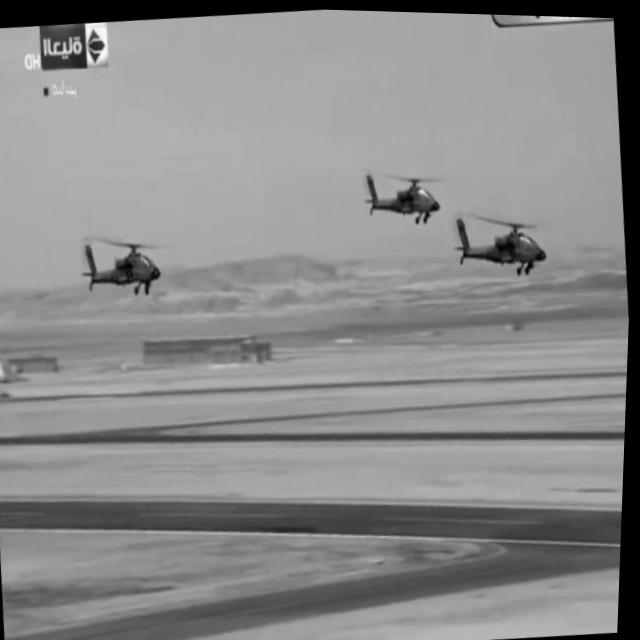helikopter: (443, 189, 559, 291), (64, 223, 171, 317), (351, 158, 444, 242)
